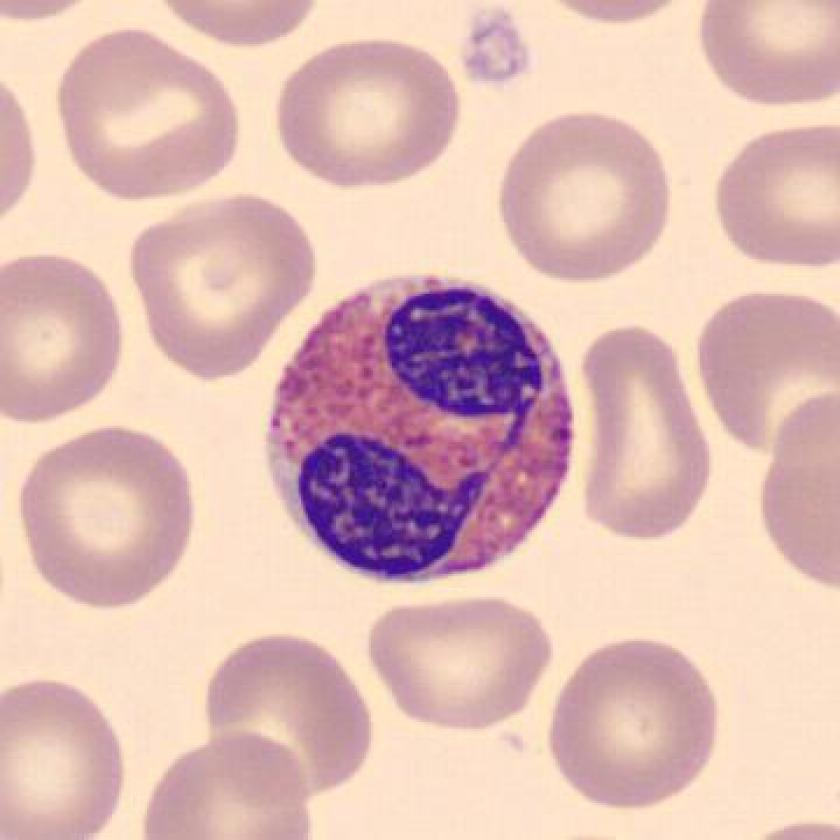eosinophil: (256, 265, 585, 593)
